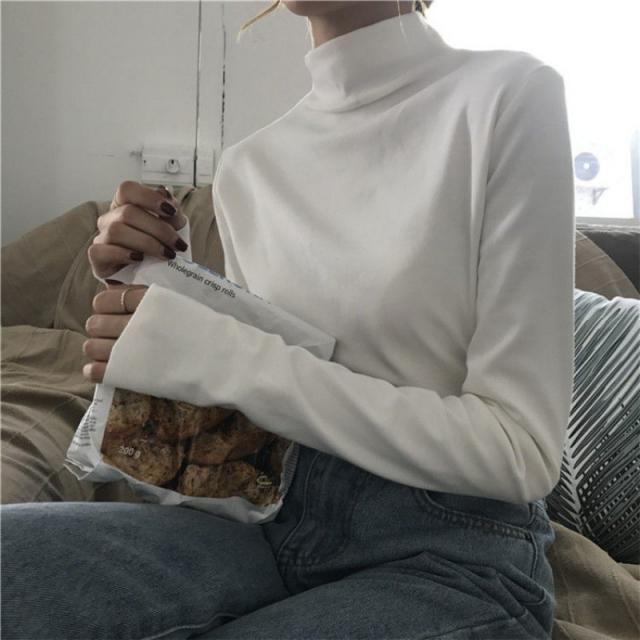Shirt: (97, 8, 580, 508)
